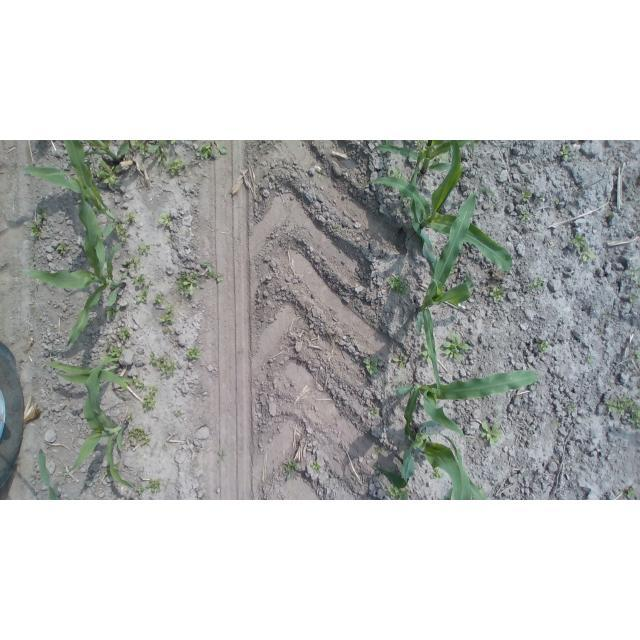Maize: (359, 141, 514, 272), (18, 172, 127, 352), (415, 192, 477, 392), (17, 141, 123, 238), (394, 370, 540, 437), (65, 357, 135, 490), (374, 428, 485, 500), (373, 140, 480, 174), (46, 359, 135, 392), (67, 140, 130, 169), (38, 448, 59, 500)
Weeds: (132, 140, 171, 164), (441, 330, 471, 361), (603, 394, 634, 417), (96, 159, 121, 186), (196, 140, 229, 160), (149, 352, 178, 374), (177, 269, 198, 297), (479, 423, 503, 447), (127, 426, 152, 447), (135, 280, 154, 303), (30, 213, 46, 240), (282, 459, 299, 482), (388, 275, 408, 294), (487, 285, 506, 304), (160, 302, 175, 325), (578, 245, 597, 263), (165, 158, 184, 176), (364, 356, 380, 377), (387, 485, 409, 500), (569, 232, 588, 249), (528, 276, 545, 293), (628, 404, 640, 428), (145, 479, 164, 494), (142, 394, 156, 412), (381, 168, 405, 178), (132, 376, 148, 391), (204, 272, 225, 283), (122, 257, 143, 268), (393, 353, 408, 368), (106, 343, 123, 356), (158, 212, 171, 228), (187, 345, 201, 359), (414, 140, 428, 153), (132, 273, 146, 286), (118, 327, 130, 342), (105, 307, 121, 318), (138, 242, 152, 254), (113, 223, 127, 235), (538, 340, 550, 354), (520, 209, 532, 222), (521, 189, 533, 202), (125, 212, 137, 225), (310, 460, 322, 473), (430, 468, 443, 480), (625, 486, 636, 500), (153, 293, 165, 305), (373, 444, 385, 456), (629, 264, 640, 277), (560, 145, 570, 159), (57, 240, 67, 254), (629, 291, 640, 303), (566, 402, 577, 414), (385, 381, 403, 388), (120, 269, 131, 280), (201, 260, 211, 272), (217, 450, 226, 463), (149, 385, 159, 396), (160, 443, 169, 454), (126, 412, 135, 421), (632, 278, 640, 288), (36, 204, 44, 214), (135, 485, 143, 495), (438, 155, 449, 162), (635, 348, 640, 362), (587, 353, 594, 363), (317, 170, 323, 181), (370, 406, 378, 414), (552, 420, 559, 429), (492, 409, 500, 416), (604, 211, 612, 218), (480, 487, 487, 495), (174, 409, 182, 416), (118, 235, 126, 242), (162, 326, 168, 334), (185, 227, 191, 235), (539, 196, 548, 201), (399, 201, 405, 208), (104, 469, 110, 476), (554, 199, 560, 205), (334, 226, 340, 232), (202, 494, 208, 500), (114, 463, 119, 470), (398, 192, 406, 196), (171, 140, 176, 145)
